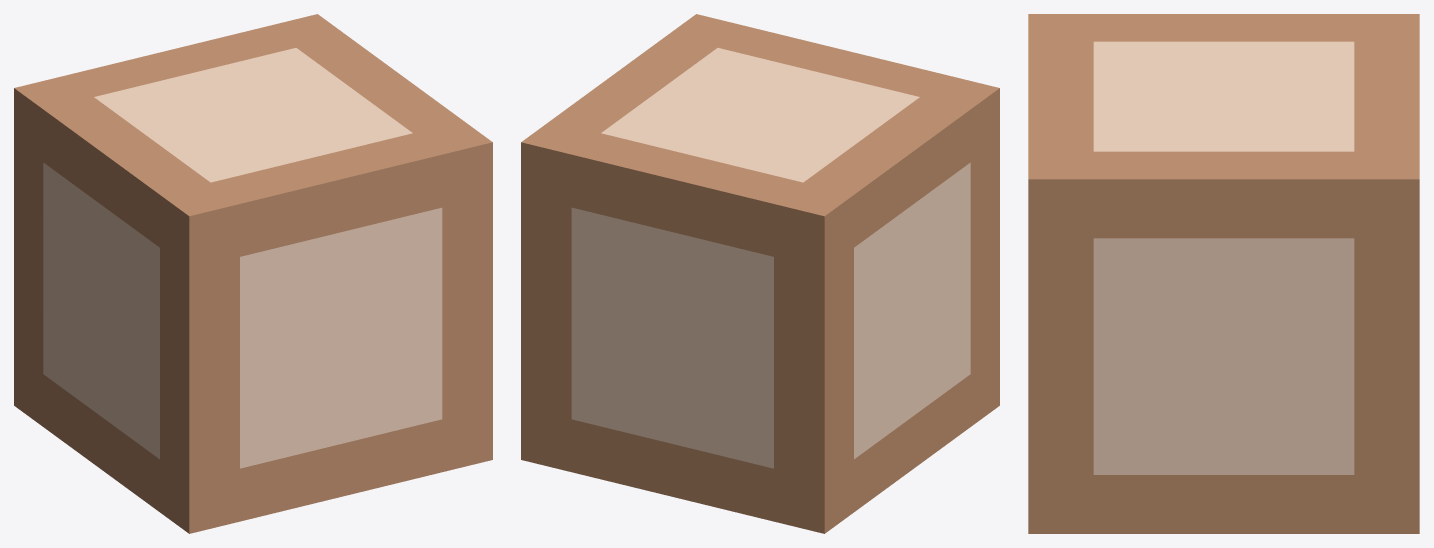
The model's file is New_Thing.obj.
The picture shows the model from 3 angles, left to right: view 1: azimuth 30°, elevation 25°; view 2: azimuth 150°, elevation 25°; view 3: azimuth 270°, elevation 25°; orthographic projection. The views are drawn at different scales.
Size of the model in its own units: 0.6 by 0.6 by 0.6.
Materials: 1 (1 with a texture image).
